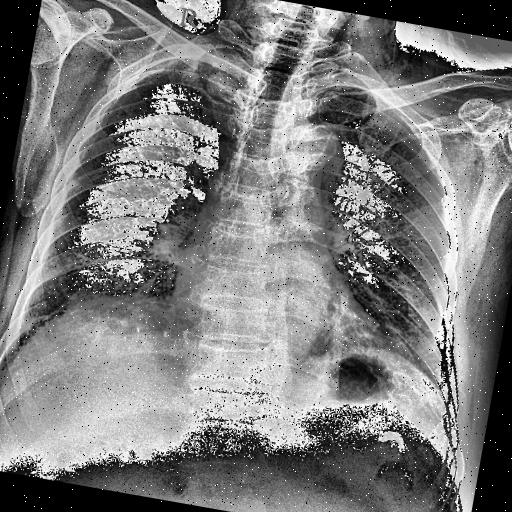0- Aortic enlargement: (211, 99, 361, 227)
13- Pulmonary fibrosis: (8, 271, 78, 348)
2- Calcification: (298, 118, 348, 174)
5- ILD: (250, 56, 512, 437), (0, 29, 239, 405), (13, 7, 243, 385), (259, 78, 491, 402), (354, 285, 455, 368)
